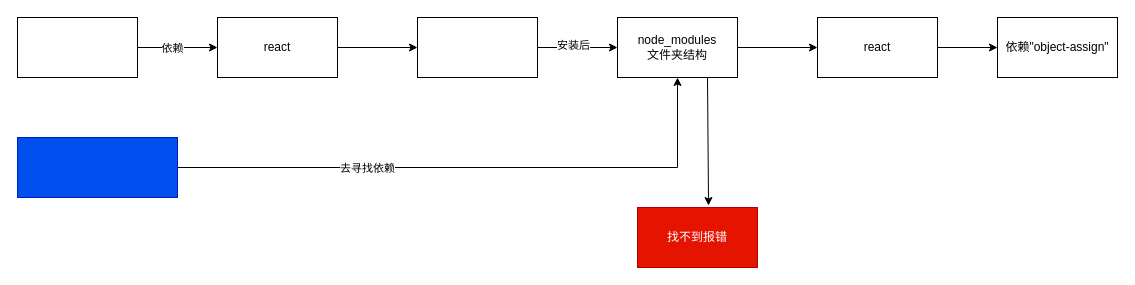
This 1135x285 diagram has some shape labels left out. The shapes that lost their labels are listed below. From the top down, each one's centre as x and y in pixels, then its label:
[77,47]: package.json
[477,47]: pnpm install
[97,167]: require("object-assign")
